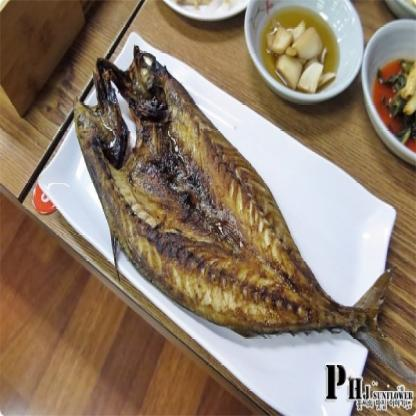Peixe: (65, 40, 397, 361)
